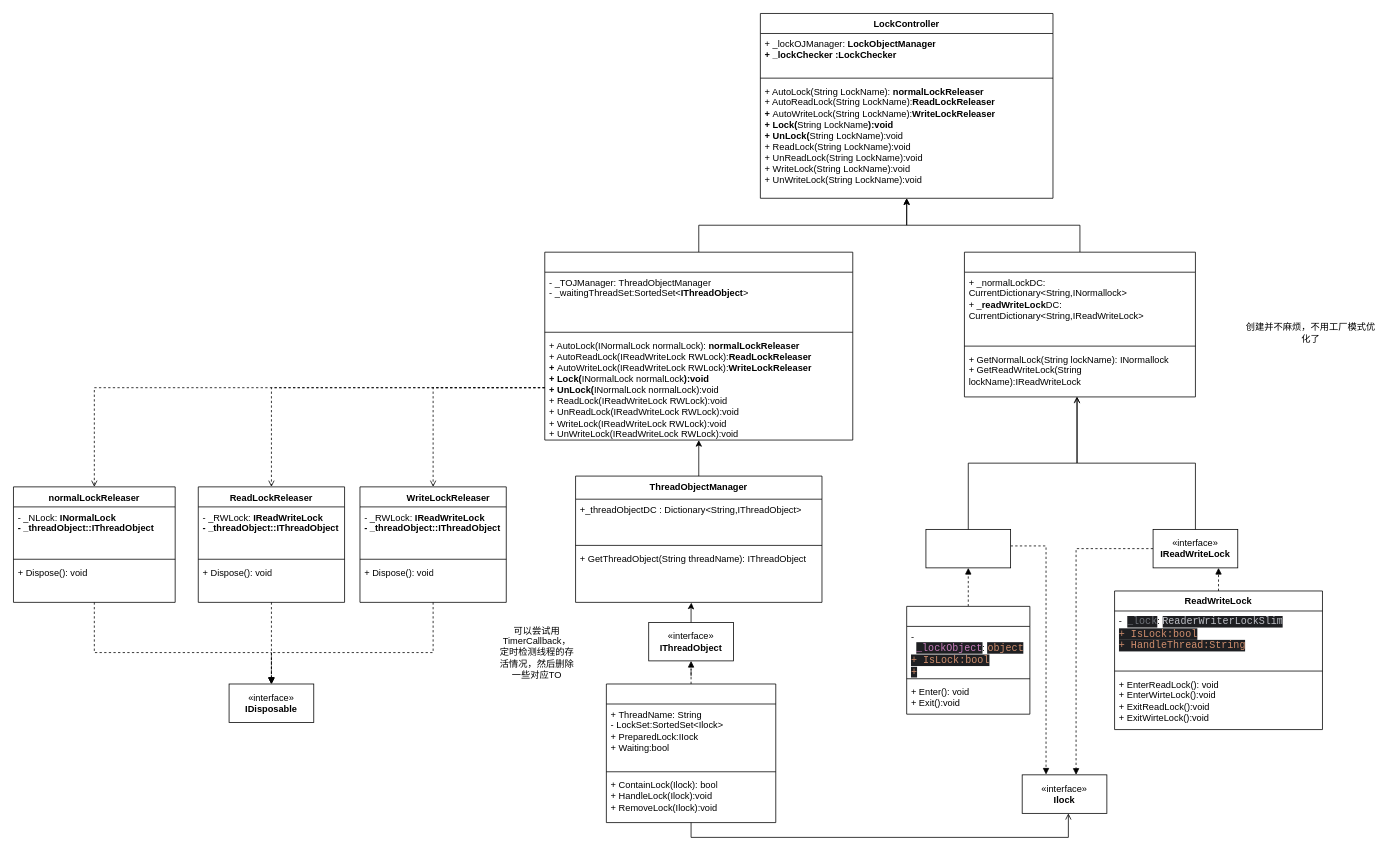
This 1390x857 diagram has some shape labels left out. The box of each missing label's shape, as (x1, y1, x2, y2) in pixels:
LockChecker: (544, 251, 853, 440)
LockObjectManager: (964, 251, 1195, 397)
NormalLock: (906, 606, 1030, 714)
ThreadObject: (606, 683, 776, 823)
«interface» INormalLock: (925, 529, 1011, 568)
